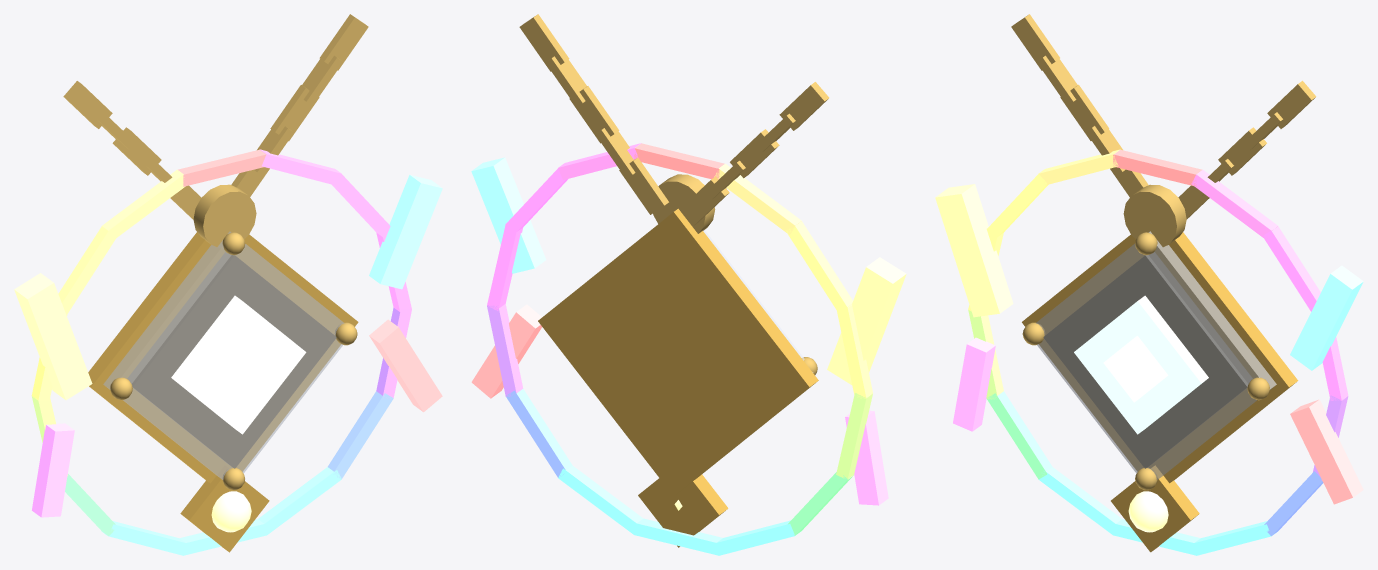
3 renders of one model, left to right at view 1: azimuth 30°, elevation 25°; view 2: azimuth 150°, elevation 25°; view 3: azimuth 330°, elevation 25°, orthographic.
Visible parts, largest first — view 1: prism-of-grace; view 2: prism-of-grace; view 3: prism-of-grace.
Part boxes in pixels (left/top/right/bottom): prism-of-grace: left=14, top=14, right=442, bottom=555; prism-of-grace: left=471, top=14, right=906, bottom=555; prism-of-grace: left=935, top=14, right=1363, bottom=555.
Bounding box in the file's own units: 0.3229 × 0.3658 × 0.0472.
